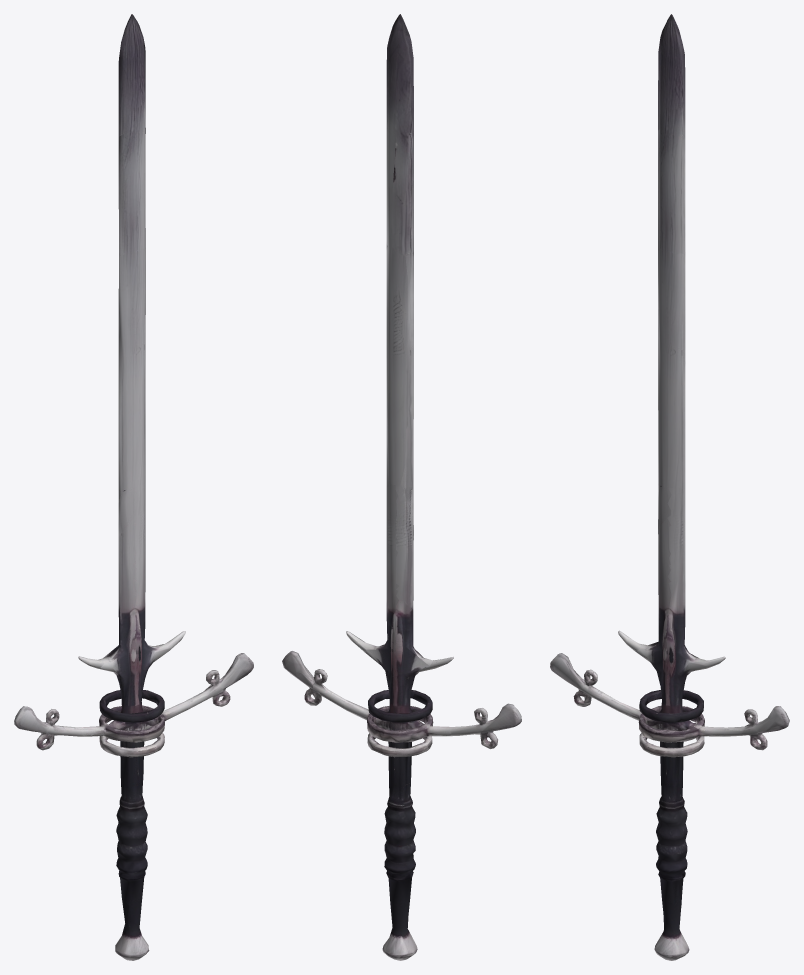
Rendered from 1320_greatsword.glb.
3 views of the same model, side by side, from view 1: azimuth 30°, elevation 25°; view 2: azimuth 150°, elevation 25°; view 3: azimuth 330°, elevation 25° (orthographic).
Visible parts, largest first — view 1: Model; view 2: Model; view 3: Model.
Part boxes in pixels (left/top/right/bottom): Model: left=14, top=14, right=253, bottom=960; Model: left=282, top=14, right=521, bottom=960; Model: left=550, top=14, right=789, bottom=960.
Bounding box in the file's own units: 0.2643 × 1 × 0.064.
1 material, 1 textured.
